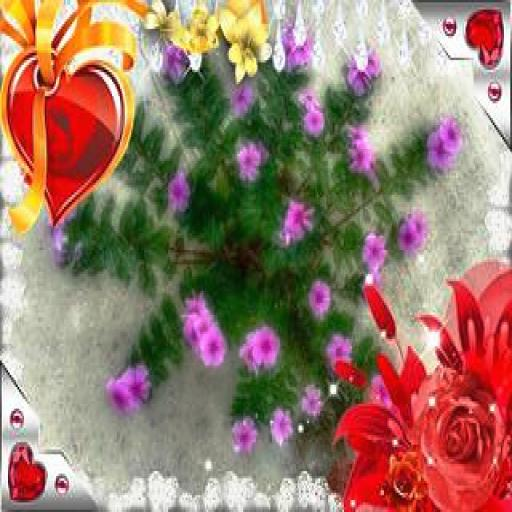rose: (384, 324, 512, 512)
